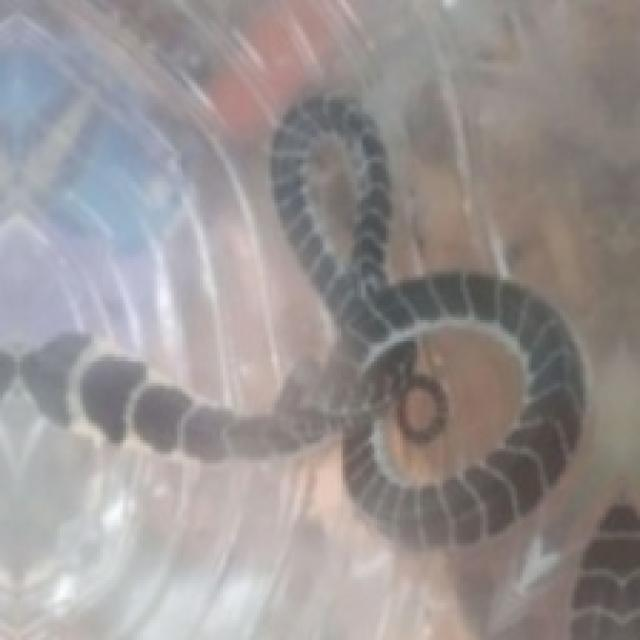king cobra: (0, 94, 586, 637), (0, 94, 583, 546), (226, 431, 451, 574)
